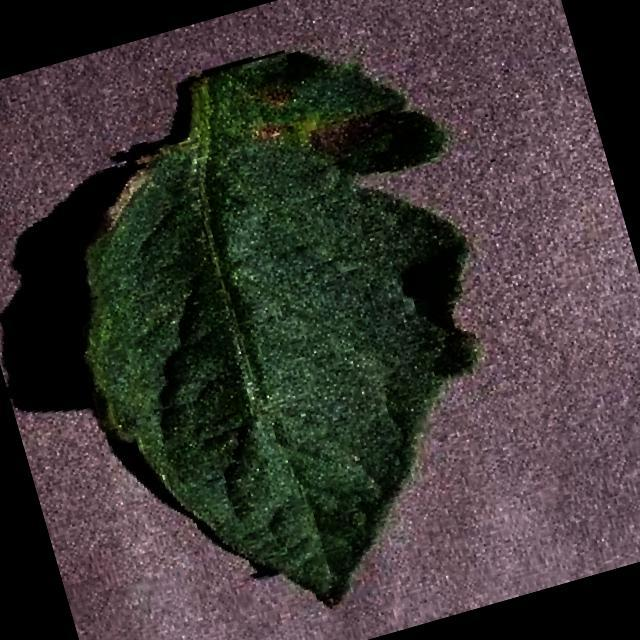Tomato Early blight leaf: (21, 14, 556, 640)
